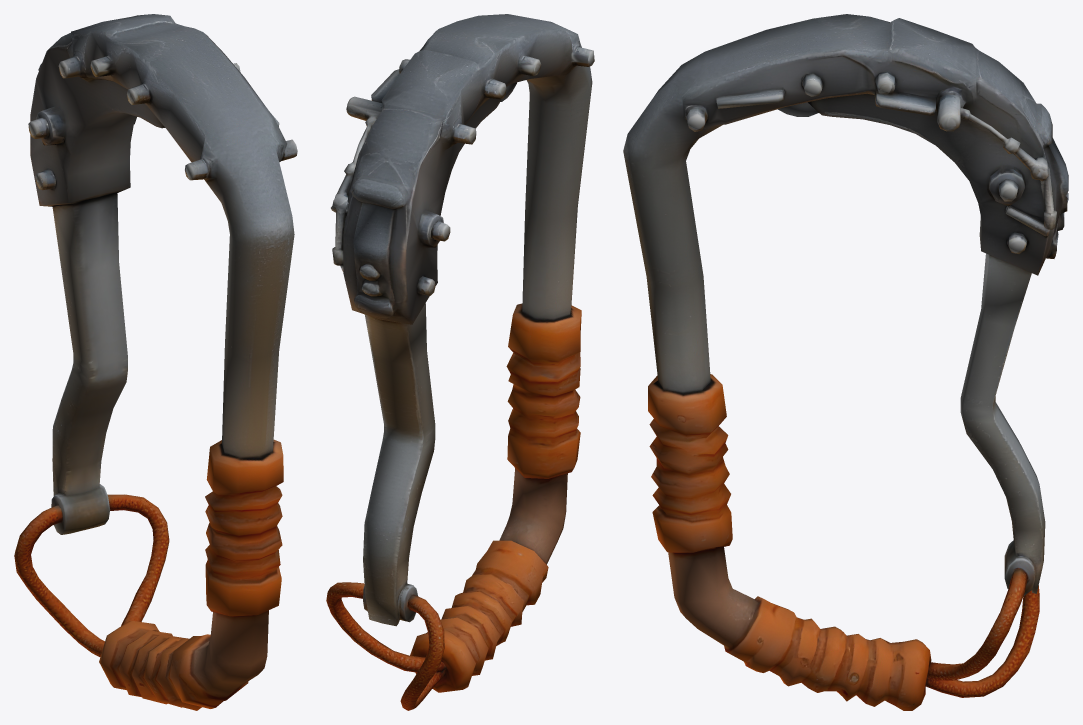
File: climbing_pick.glb
3 renders of one model, left to right at view 1: azimuth 30°, elevation 25°; view 2: azimuth 150°, elevation 25°; view 3: azimuth 270°, elevation 25°, orthographic. The views are drawn at different scales.
Visible parts, largest first — view 1: tripo_node_1a498a88-0cd5-47c2-b684-65382eb2f821; view 2: tripo_node_1a498a88-0cd5-47c2-b684-65382eb2f821; view 3: tripo_node_1a498a88-0cd5-47c2-b684-65382eb2f821.
Part boxes in pixels (x1,y1,x2,y2): tripo_node_1a498a88-0cd5-47c2-b684-65382eb2f821: (14,14,297,710); tripo_node_1a498a88-0cd5-47c2-b684-65382eb2f821: (326,14,594,710); tripo_node_1a498a88-0cd5-47c2-b684-65382eb2f821: (623,14,1068,710).
Bounding box in the file's own units: 0.2168 × 0.998 × 0.5957.
1 material, 1 textured.
